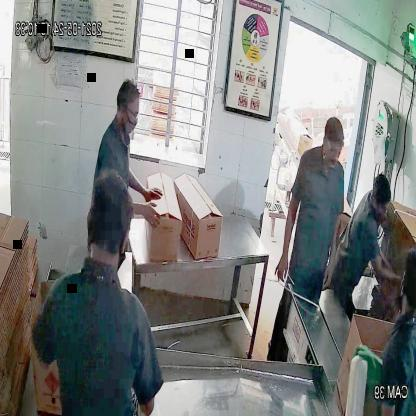goggles: (322, 139, 345, 160)
